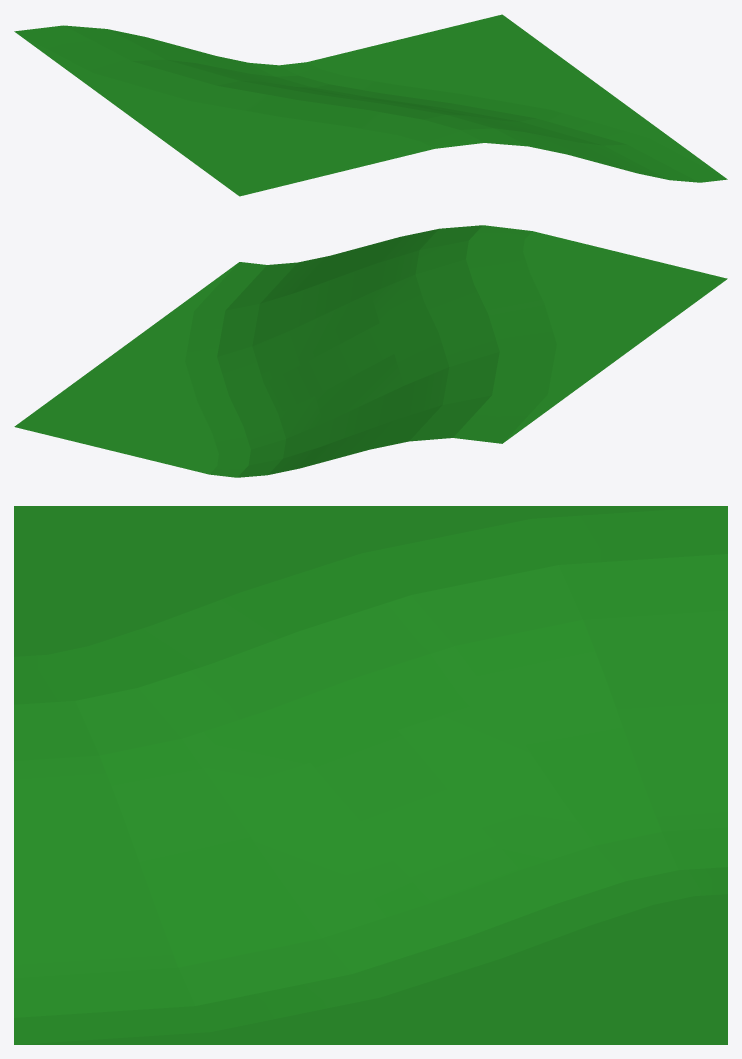
File: Terrain_Hill_Esse_4x5.obj
3 views of the same model, one above another, from view 1: azimuth 30°, elevation 25°; view 2: azimuth 150°, elevation 25°; view 3: azimuth 270°, elevation 25° (orthographic). The views are drawn at different scales.
Visible parts, largest first — view 1: object1; view 2: object1; view 3: object1.
Part boxes in pixels (x1,y1,x2,y2): object1: [14, 14, 727, 196]; object1: [14, 225, 727, 477]; object1: [14, 506, 727, 1044].
Bounding box in the file's own units: 5 × 1 × 4.
